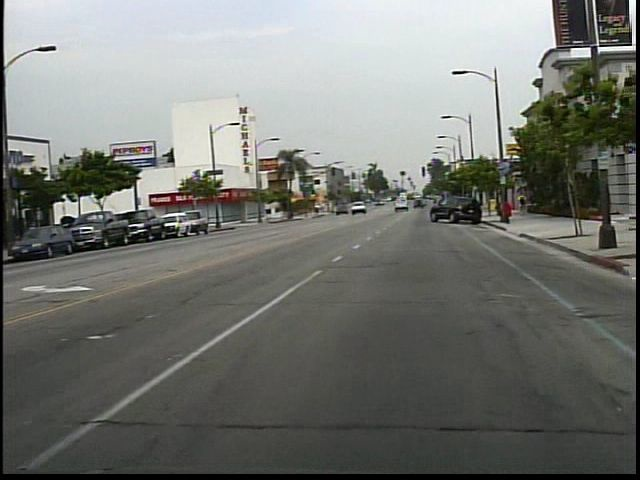person: (520, 188, 534, 218)
